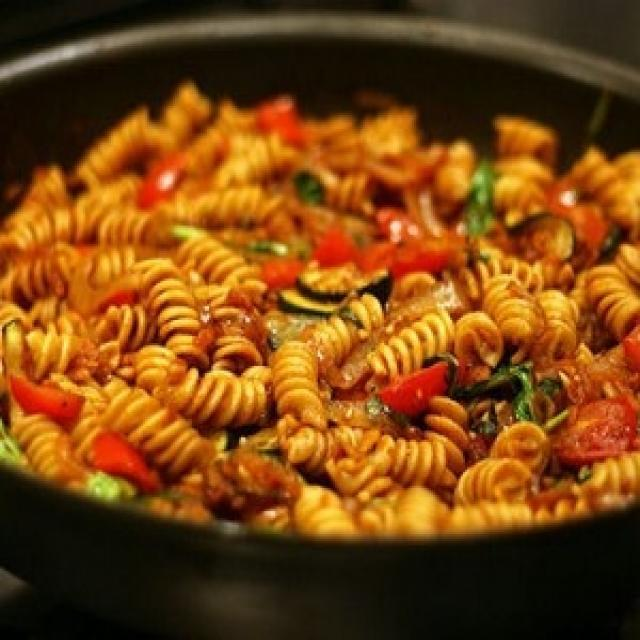Pasta al ragu: (7, 81, 632, 539)
